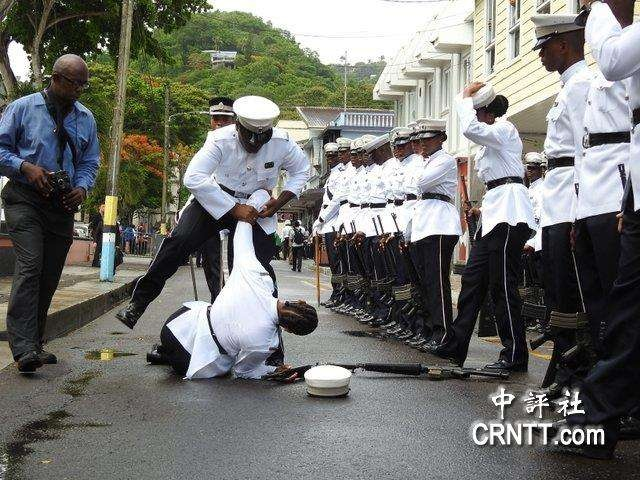falling: (151, 185, 334, 390)
